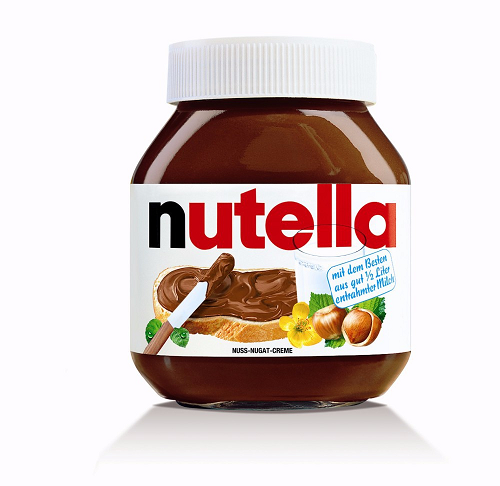nutella: (129, 33, 416, 411)
